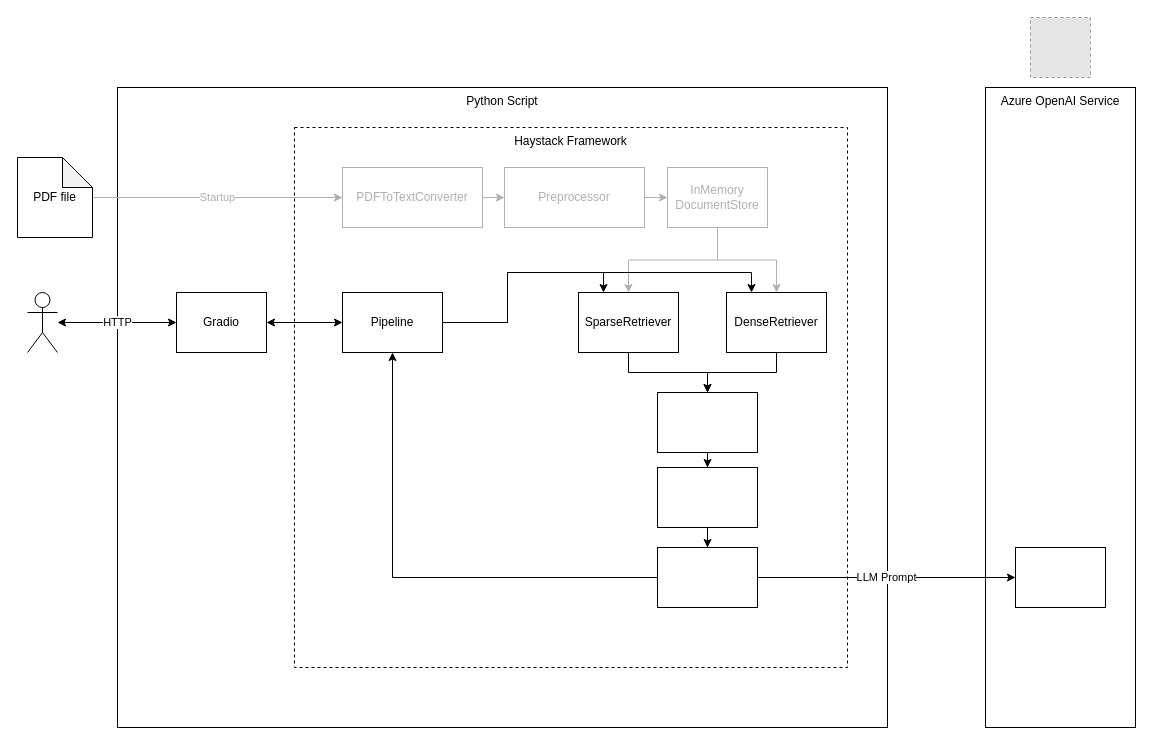
Some shapes in this 1153 by 745 pixel diagram are drawn without their labels. Grey dashed boxes stand in for pictures. Each missing label, with the centre of its shape:
"GPT-3.5-Turbo" belongs at [1060,577].
"JoinDocuments" belongs at [707,422].
"Promptnode" belongs at [707,577].
"Reranker" belongs at [707,497].
"User" belongs at [42,322].
